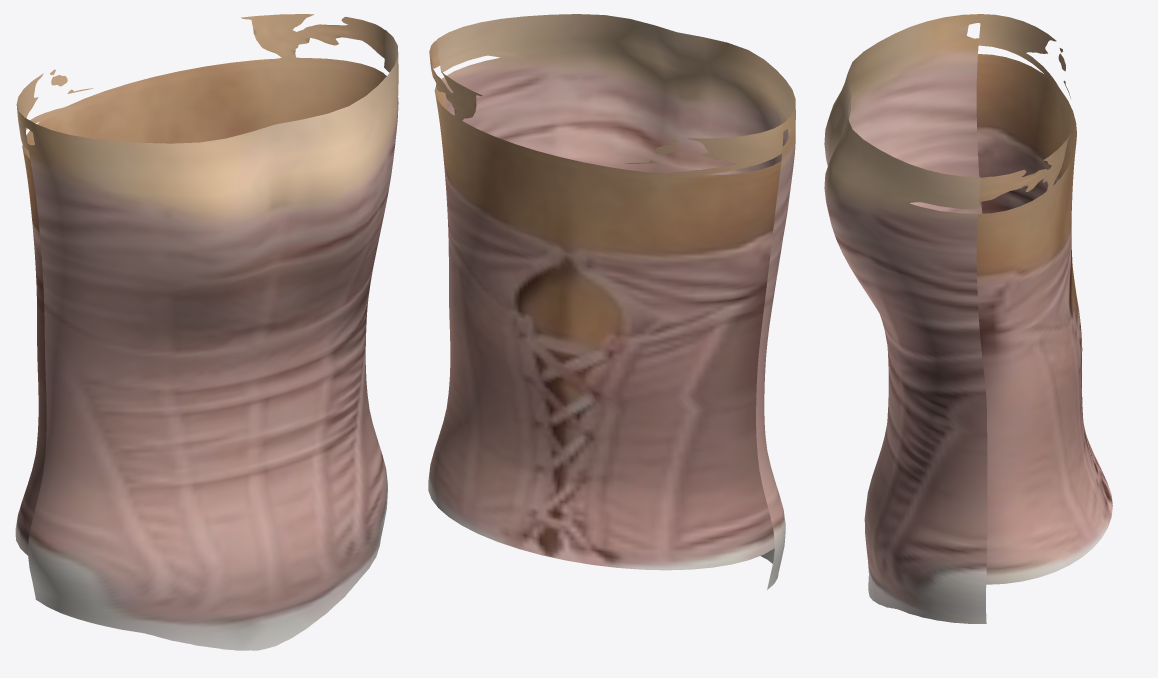
File: prod-ae-blush-ruched-offshoulder.glb
3 renders of one model, left to right at view 1: azimuth 30°, elevation 25°; view 2: azimuth 150°, elevation 25°; view 3: azimuth 270°, elevation 25°, orthographic. The views are drawn at different scales.
Visible parts, largest first — view 1: prod-ae-blush-ruched-offshoulder; view 2: prod-ae-blush-ruched-offshoulder; view 3: prod-ae-blush-ruched-offshoulder.
Boxes of the visible parts, box(x1,y1,x2,y2) form: prod-ae-blush-ruched-offshoulder: box(15, 14, 398, 650); prod-ae-blush-ruched-offshoulder: box(428, 14, 795, 589); prod-ae-blush-ruched-offshoulder: box(824, 14, 1112, 623).
Bounding box in the file's own units: 0.2166 × 0.3047 × 0.1789.
1 material, 1 textured.
